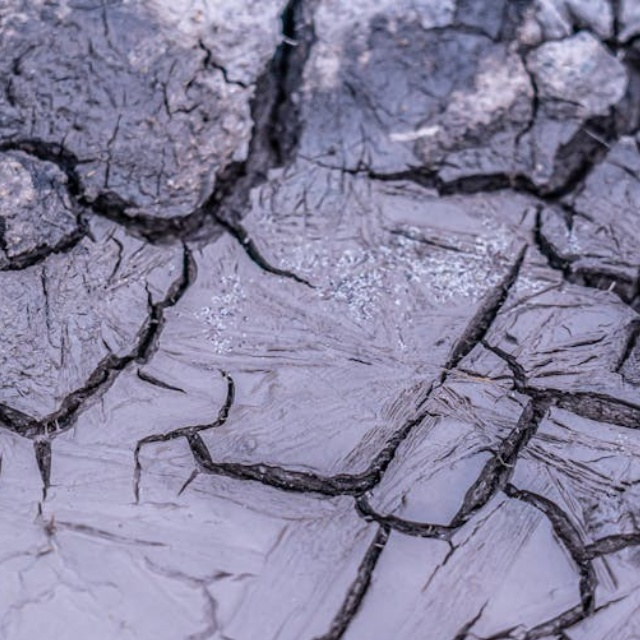网状裂隙: (114, 2, 640, 640)
